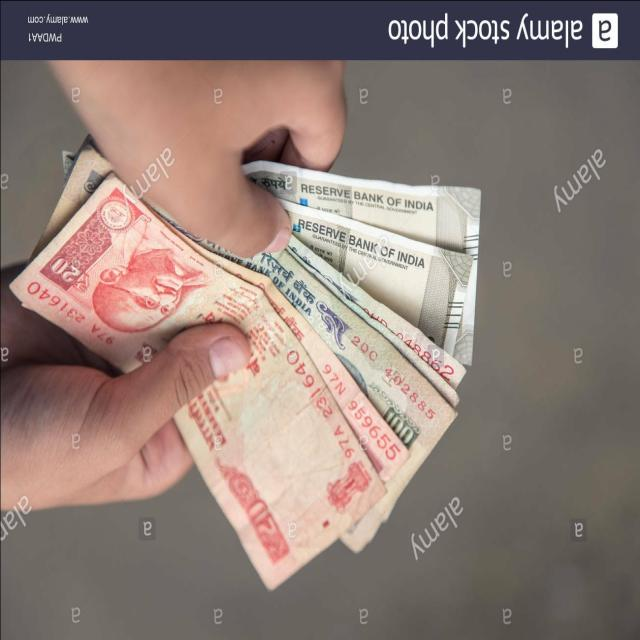20IndianRupees: (22, 174, 382, 586)
